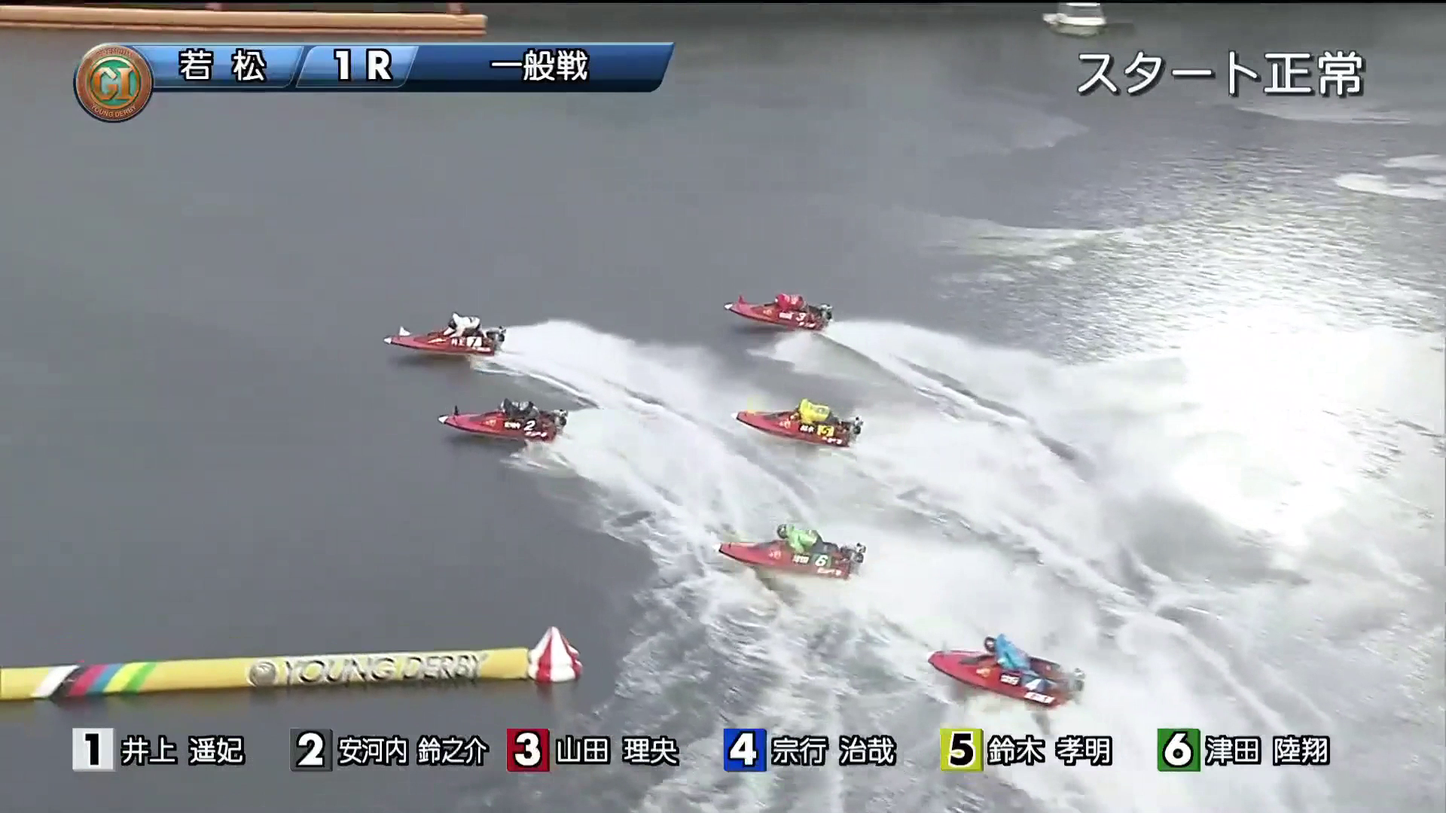１号艇: (407, 279, 477, 332)
２号艇: (425, 370, 554, 431)
３号艇: (749, 262, 847, 316)
４号艇: (734, 502, 868, 567)
５号艇: (952, 646, 1076, 701)
６号艇: (741, 357, 841, 437)
